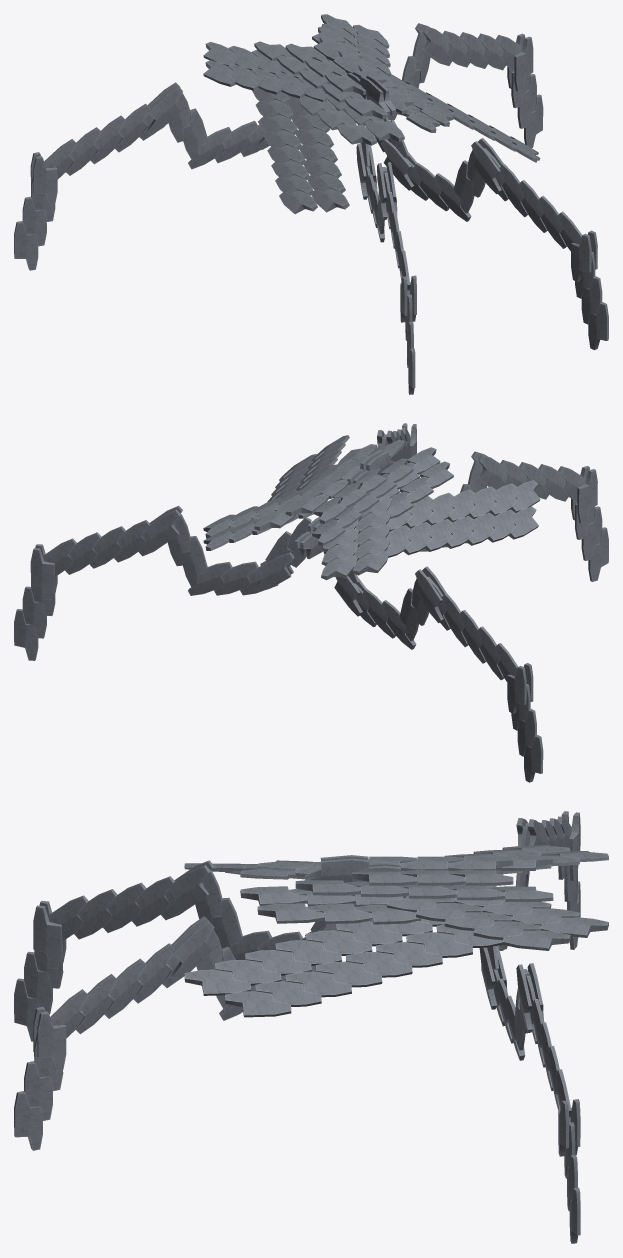
Rendered from SG_Replicator.fbx.
3 renders of one model, top to bottom at view 1: azimuth 30°, elevation 25°; view 2: azimuth 150°, elevation 25°; view 3: azimuth 270°, elevation 25°, orthographic. The views are drawn at different scales.
Visible parts, largest first — view 1: Rep_block_low.009, Rep_block_low.022, Rep_block_low.020, Rep_block_low.032, Rep_block_low.011, Rep_block_low.013, Rep_block_low.021, Rep_block_low.002, Rep_block_low.031, Rep_block_low.035, Rep_block_low.012, Rep_block_low.016 (+18 smaller); view 2: Rep_block_low.009, Rep_block_low.022, Rep_block_low.020, Rep_block_low.002, Rep_block_low.011, Rep_block_low.021, Rep_block_low.032, Rep_block_low.024, Rep_block_low.001, Rep_block_low.005, Rep_block_low.031, Rep_block_low.023 (+13 smaller); view 3: Rep_block_low.009, Rep_block_low.022, Rep_block_low.020, Rep_block_low.013, Rep_block_low.011, Rep_block_low.024, Rep_block_low.021, Rep_block_low.012, Rep_block_low.023, Rep_block_low.025, Rep_block_low.002, Rep_block_low.010 (+14 smaller).
Part boxes in pixels (x1=…): Rep_block_low.009: x1=252, y1=74, x2=540, y2=214; Rep_block_low.022: x1=203, y1=14, x2=391, y2=101; Rep_block_low.020: x1=298, y1=76, x2=453, y2=145; Rep_block_low.032: x1=44, y1=95, x2=164, y2=179; Rep_block_low.011: x1=254, y1=26, x2=413, y2=119; Rep_block_low.013: x1=484, y1=148, x2=581, y2=251; Rep_block_low.021: x1=285, y1=36, x2=386, y2=94; Rep_block_low.002: x1=430, y1=31, x2=522, y2=70; Rep_block_low.031: x1=14, y1=175, x2=55, y2=270; Rep_block_low.035: x1=188, y1=120, x2=265, y2=169; Rep_block_low.012: x1=575, y1=252, x2=608, y2=350; Rep_block_low.016: x1=405, y1=157, x2=471, y2=221; Rep_block_low.009: x1=267, y1=435, x2=540, y2=557; Rep_block_low.022: x1=203, y1=482, x2=391, y2=580; Rep_block_low.020: x1=301, y1=440, x2=453, y2=519; Rep_block_low.002: x1=42, y1=520, x2=158, y2=576; Rep_block_low.011: x1=254, y1=456, x2=413, y2=545; Rep_block_low.021: x1=285, y1=466, x2=386, y2=523; Rep_block_low.032: x1=427, y1=577, x2=518, y2=681; Rep_block_low.024: x1=487, y1=460, x2=586, y2=501; Rep_block_low.001: x1=14, y1=580, x2=55, y2=660; Rep_block_low.005: x1=188, y1=561, x2=278, y2=595; Rep_block_low.031: x1=511, y1=684, x2=543, y2=782; Rep_block_low.023: x1=575, y1=503, x2=608, y2=581; Rep_block_low.009: x1=184, y1=863, x2=503, y2=1017; Rep_block_low.022: x1=387, y1=845, x2=608, y2=950; Rep_block_low.020: x1=240, y1=860, x2=420, y2=924; Rep_block_low.013: x1=50, y1=931, x2=193, y2=1038; Rep_block_low.011: x1=295, y1=855, x2=553, y2=901; Rep_block_low.024: x1=48, y1=876, x2=194, y2=940; Rep_block_low.021: x1=352, y1=856, x2=513, y2=885; Rep_block_low.012: x1=14, y1=1033, x2=63, y2=1150; Rep_block_low.023: x1=14, y1=944, x2=63, y2=1041; Rep_block_low.025: x1=195, y1=870, x2=242, y2=948; Rep_block_low.002: x1=526, y1=975, x2=571, y2=1122; Rep_block_low.010: x1=305, y1=855, x2=496, y2=898.
Size of the model in its own units: 59.68 by 21.14 by 47.98.
